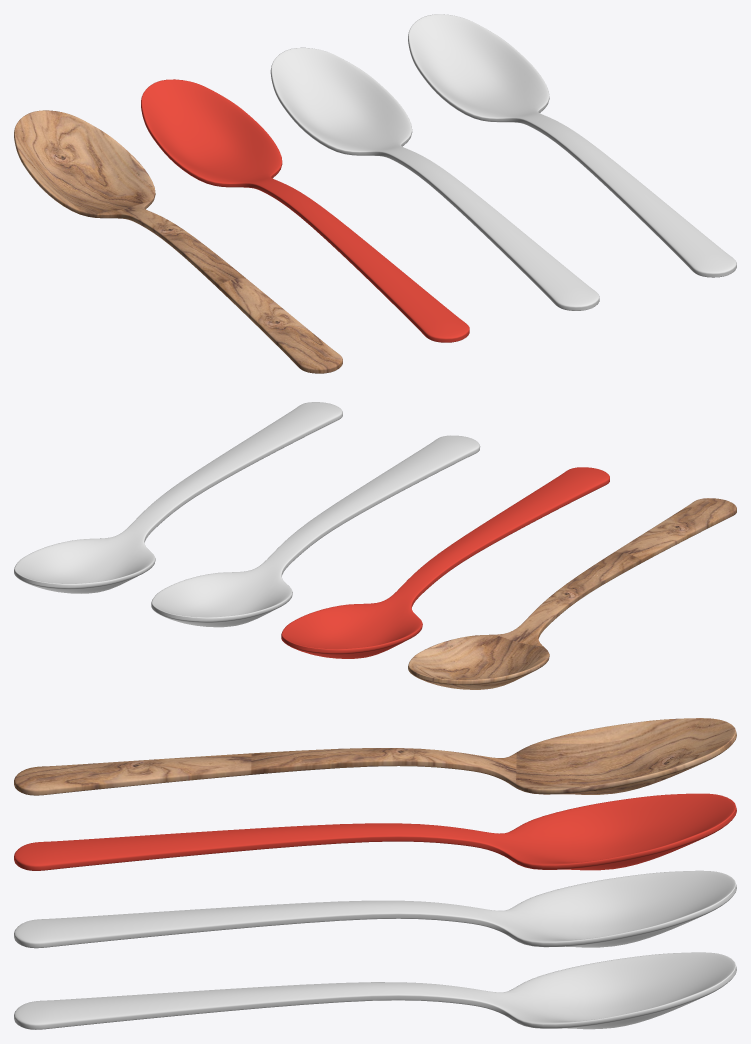
Rendered from Spoons.glb.
3 renders of one model, top to bottom at view 1: azimuth 30°, elevation 25°; view 2: azimuth 150°, elevation 25°; view 3: azimuth 270°, elevation 25°, orthographic. The views are drawn at different scales.
Size of the model in its own units: 0.2024 by 0.0174 by 0.2116.
Materials: 4 (1 with a texture image).
